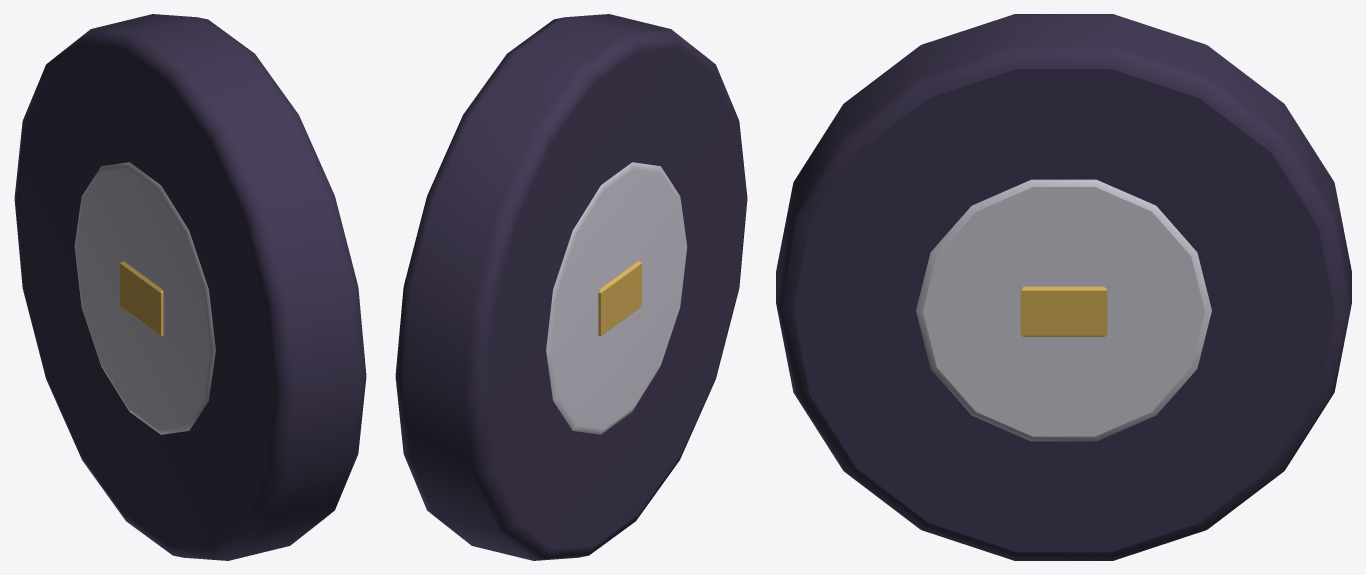
Rendered from roda.glb.
3 renders of one model, left to right at view 1: azimuth 30°, elevation 25°; view 2: azimuth 150°, elevation 25°; view 3: azimuth 270°, elevation 25°, orthographic. The views are drawn at different scales.
Parts seen in each view (by area): view 1: roda_corpo; view 2: roda_corpo; view 3: roda_corpo.
Part boxes in pixels (box(x1,y1,x2,y2)): roda_corpo: box(14, 14, 366, 560); roda_corpo: box(395, 14, 747, 560); roda_corpo: box(776, 14, 1351, 560).
Bounding box in the file's own units: 0.42 × 1.97 × 2.
